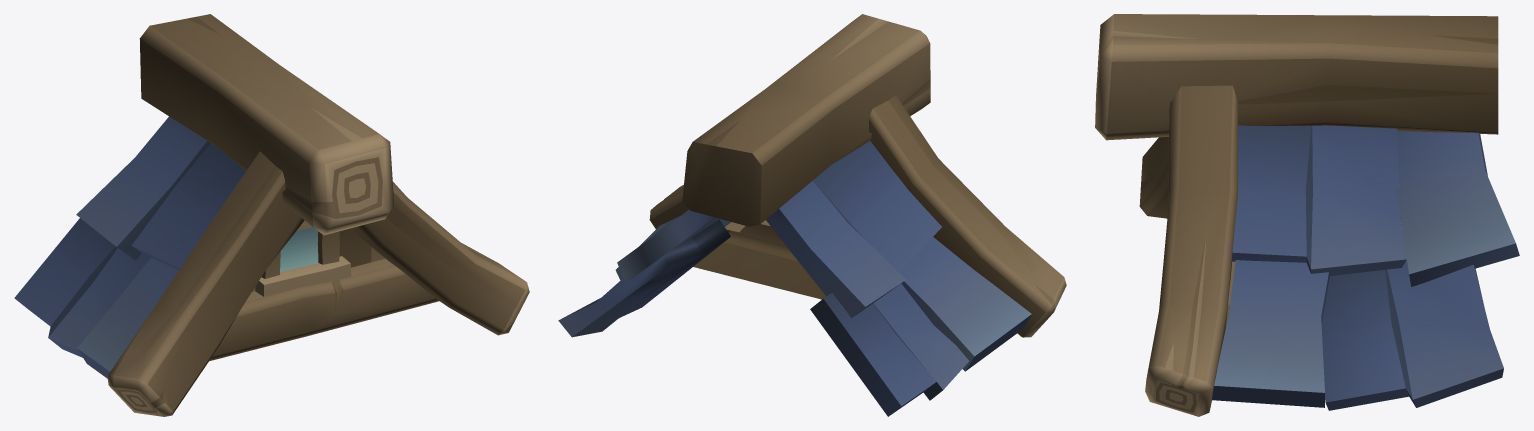
File: house_roof_small.fbx
3 views of the same model, side by side, from view 1: azimuth 30°, elevation 25°; view 2: azimuth 150°, elevation 25°; view 3: azimuth 270°, elevation 25° (orthographic). The views are drawn at different scales.
Parts seen in each view (by area): view 1: house_roof_small; view 2: house_roof_small; view 3: house_roof_small.
Part boxes in pixels (x1,y1,x2,y2): house_roof_small: [14, 14, 529, 416]; house_roof_small: [558, 14, 1066, 416]; house_roof_small: [1095, 14, 1519, 416].
Size of the model in its own units: 432 by 264 by 344.
